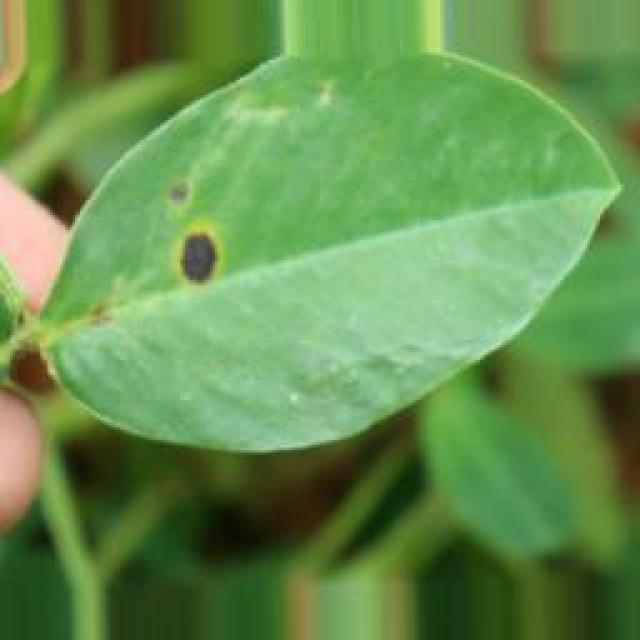Sigatoka: (145, 155, 230, 283), (66, 287, 136, 355)
